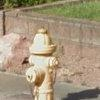Hydrant: (21, 21, 68, 100)
